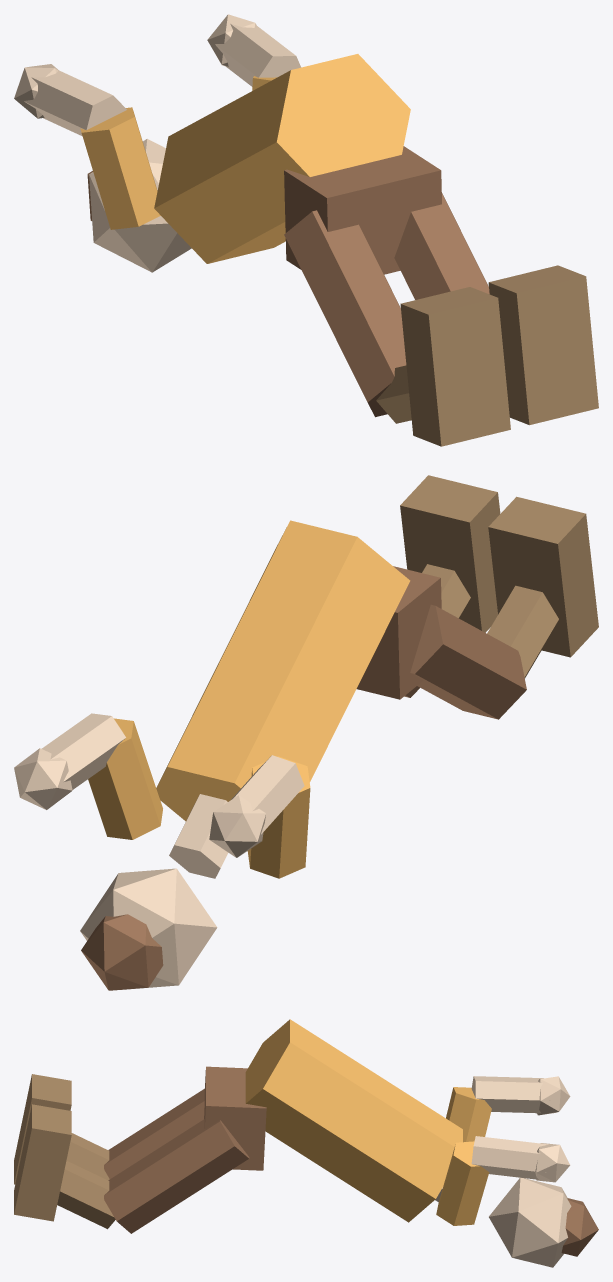
The model's file is pose_dodge_roll_20.glb.
The picture shows the model from 3 angles, top to bottom: view 1: azimuth 30°, elevation 25°; view 2: azimuth 150°, elevation 25°; view 3: azimuth 270°, elevation 25°; orthographic projection. The views are drawn at different scales.
Visible parts, largest first — view 1: pose; view 2: pose; view 3: pose.
Boxes of the visible parts, bbox=[...] form: pose: bbox=[14, 14, 598, 446]; pose: bbox=[14, 475, 598, 990]; pose: bbox=[14, 1019, 598, 1267].
Size of the model in its own units: 0.4876 by 0.6308 by 1.45.
